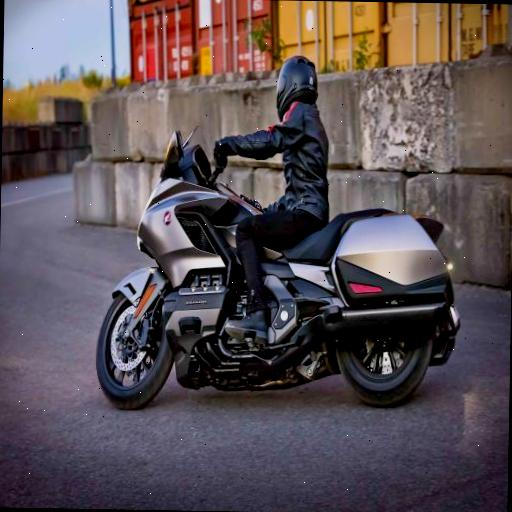helmet: (176, 48, 343, 350)
